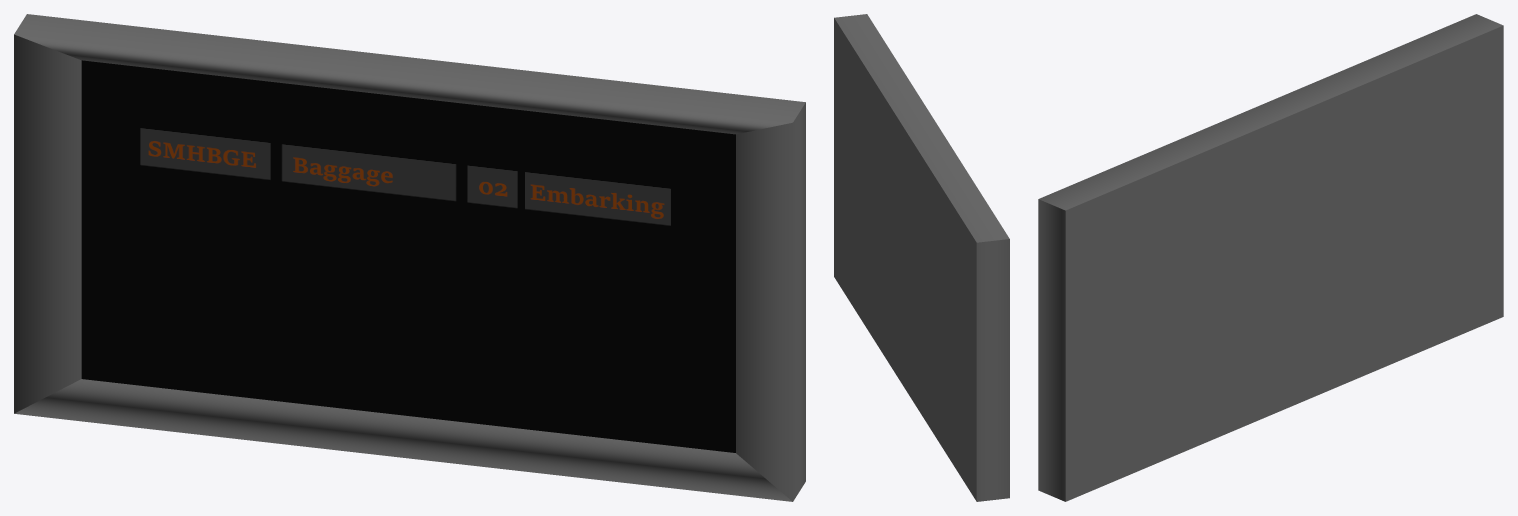
The model's file is SM_Hub_TV_02.fbx.
3 renders of one model, left to right at view 1: azimuth 30°, elevation 25°; view 2: azimuth 150°, elevation 25°; view 3: azimuth 270°, elevation 25°, orthographic. The views are drawn at different scales.
Visible parts, largest first — view 1: pasted__SM_Hub_TV_01; view 2: pasted__SM_Hub_TV_01; view 3: pasted__SM_Hub_TV_01.
Boxes of the visible parts, <box> form: pasted__SM_Hub_TV_01: <box>14,14,805,501</box>; pasted__SM_Hub_TV_01: <box>834,14,1009,501</box>; pasted__SM_Hub_TV_01: <box>1038,14,1503,501</box>.
Size of the model in its own units: 19.25 by 13.3 by 19.25.
